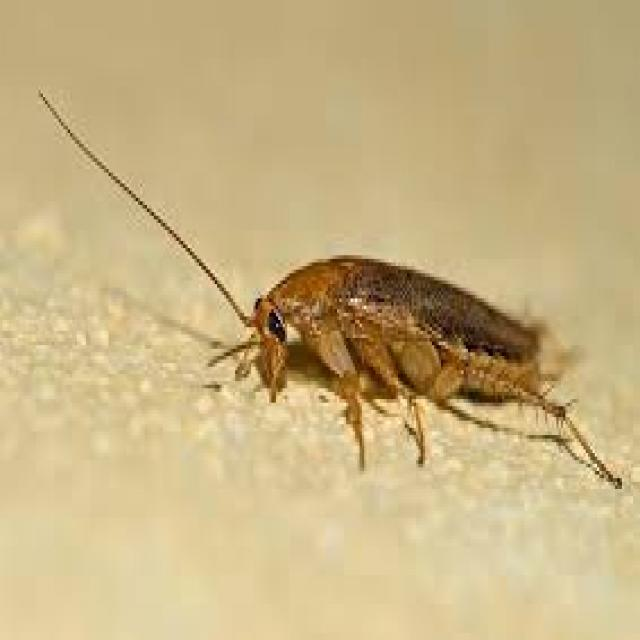Cockroach: (28, 72, 630, 520)
